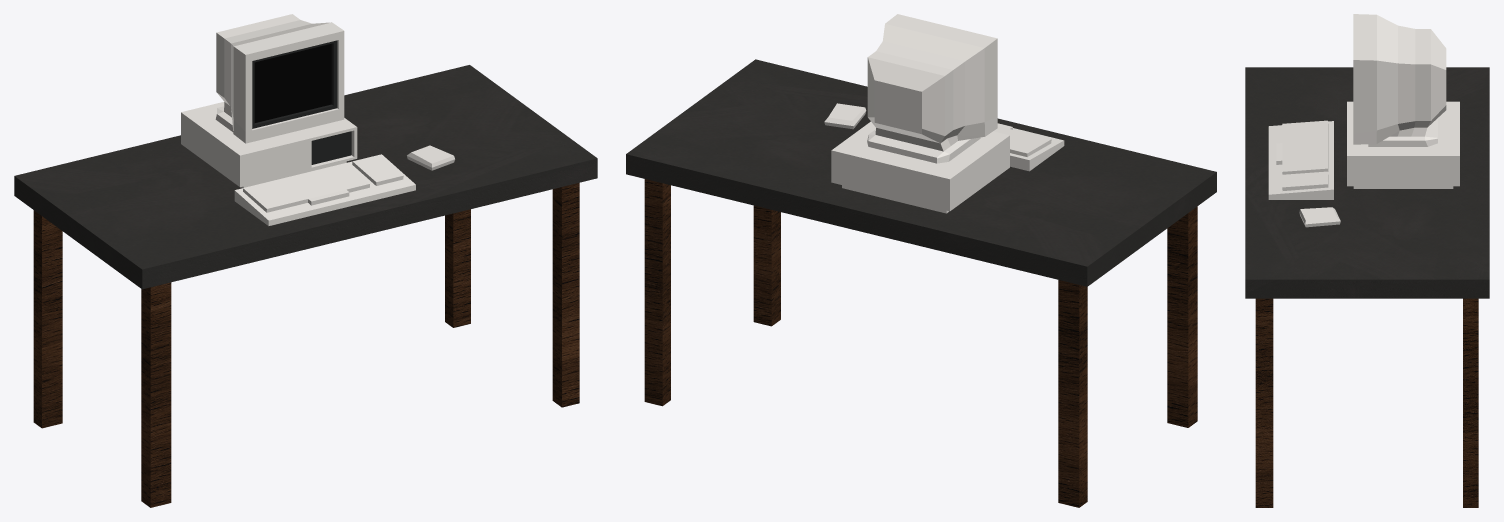
The model's file is lowPolyComputerTex.glb.
The picture shows the model from 3 angles, left to right: view 1: azimuth 30°, elevation 25°; view 2: azimuth 150°, elevation 25°; view 3: azimuth 270°, elevation 25°; orthographic projection. The views are drawn at different scales.
Parts seen in each view (by area): view 1: Table, Monitor, Casing, Keys, Keyboard, Mouse; view 2: Table, Monitor, Casing, Keys, Keyboard, Mouse; view 3: Table, Monitor, Casing, Keys, Keyboard, Mouse.
Boxes of the visible parts, box(x1,y1,x2,y2) form: Table: box(14, 65, 597, 507); Monitor: box(215, 14, 344, 143); Casing: box(181, 102, 357, 188); Keys: box(243, 155, 403, 212); Keyboard: box(234, 154, 415, 225); Mouse: box(407, 145, 454, 170); Table: box(626, 59, 1216, 507); Monitor: box(867, 14, 997, 163); Casing: box(831, 121, 1009, 213); Keys: box(993, 123, 1051, 156); Keyboard: box(1010, 128, 1064, 171); Mouse: box(824, 103, 866, 129); Table: box(1245, 67, 1489, 507); Monitor: box(1353, 14, 1446, 146); Casing: box(1347, 101, 1459, 188); Keys: box(1276, 120, 1328, 190); Keyboard: box(1268, 121, 1333, 199); Mouse: box(1299, 207, 1340, 227).
Size of the model in its own units: 1.94 by 1.55 by 0.9457.
5 materials, 2 textured.
